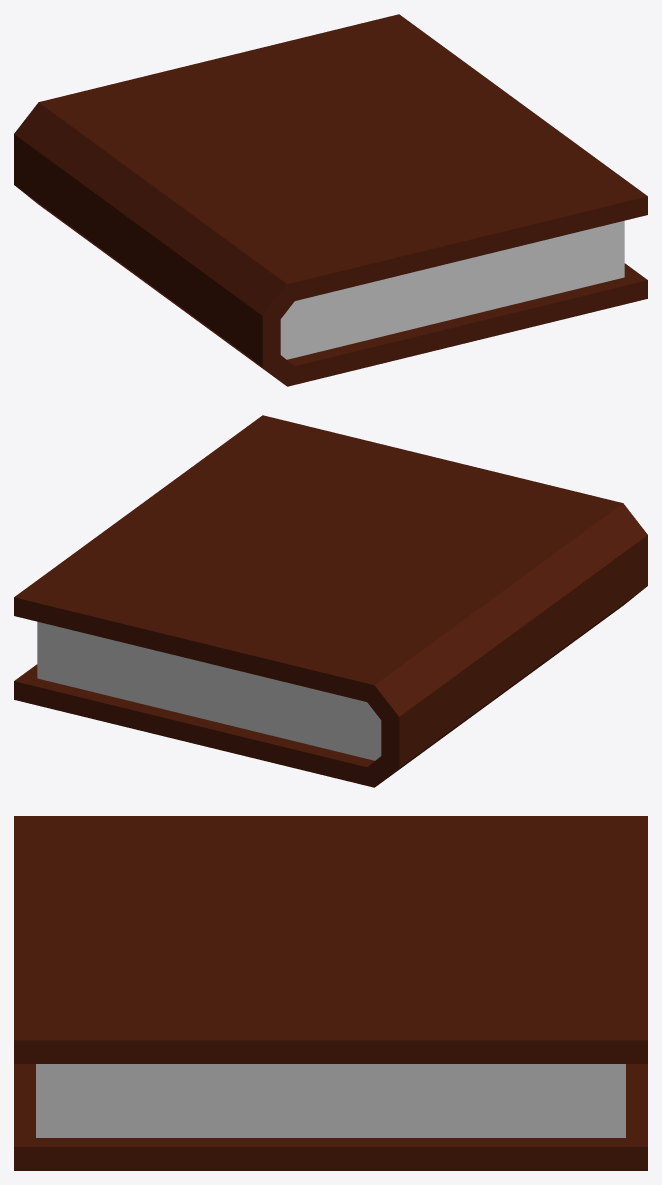
The model's file is book.FBX.
The picture shows the model from 3 angles, top to bottom: view 1: azimuth 30°, elevation 25°; view 2: azimuth 150°, elevation 25°; view 3: azimuth 270°, elevation 25°; orthographic projection. The views are drawn at different scales.
Parts seen in each view (by area): view 1: Box014; view 2: Box014; view 3: Box014.
Part boxes in pixels (bbox=[...]): Box014: bbox=[14, 14, 647, 386]; Box014: bbox=[14, 415, 647, 787]; Box014: bbox=[14, 816, 647, 1170].
Size of the model in its own units: 21.58 by 5.49 by 24.14.
